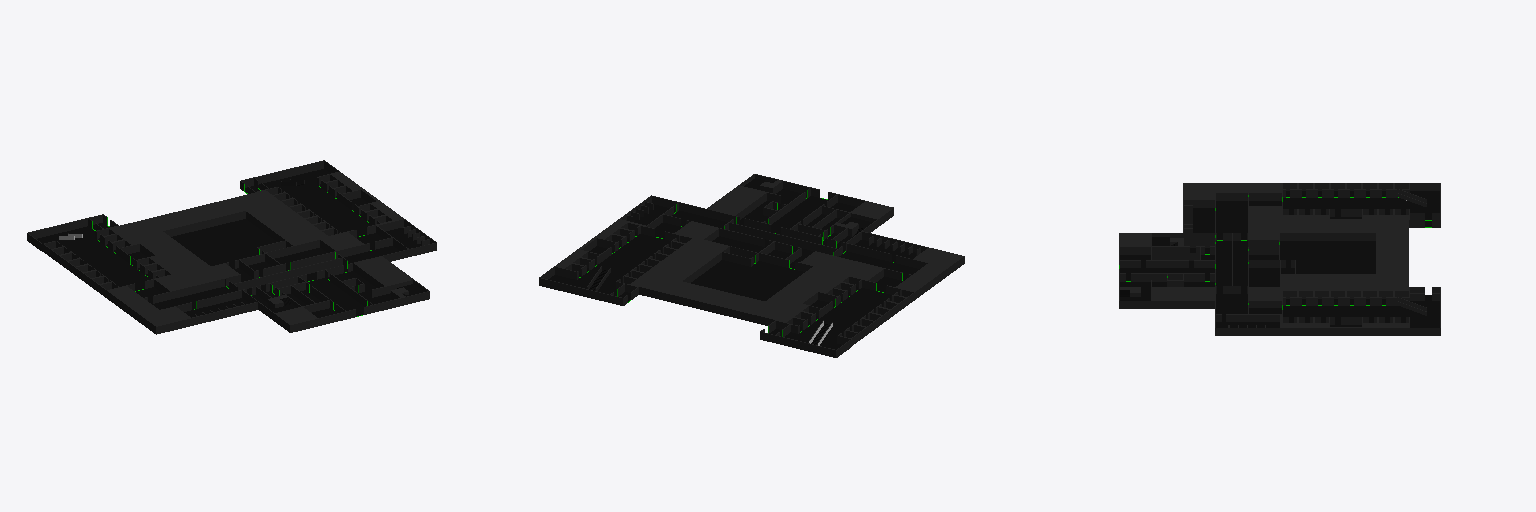
Rendered from prison_firstfloor.obj.
3 renders of one model, left to right at view 1: azimuth 30°, elevation 25°; view 2: azimuth 150°, elevation 25°; view 3: azimuth 270°, elevation 25°, orthographic.
Parts seen in each view (by area): view 1: map_blockR_map_prison_layer_outline_bottom.002; view 2: map_blockR_map_prison_layer_outline_bottom.002; view 3: map_blockR_map_prison_layer_outline_bottom.002.
Boxes of the visible parts, box(x1,y1,x2,y2) form: map_blockR_map_prison_layer_outline_bottom.002: box(27, 160, 436, 334); map_blockR_map_prison_layer_outline_bottom.002: box(539, 174, 964, 357); map_blockR_map_prison_layer_outline_bottom.002: box(1119, 183, 1440, 335).
Bounding box in the file's own units: 1.07 × 0.0494 × 1.